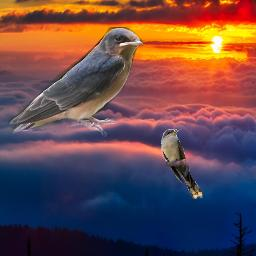Cuckoo: (161, 129, 203, 199)
Swallow: (8, 27, 144, 137)
